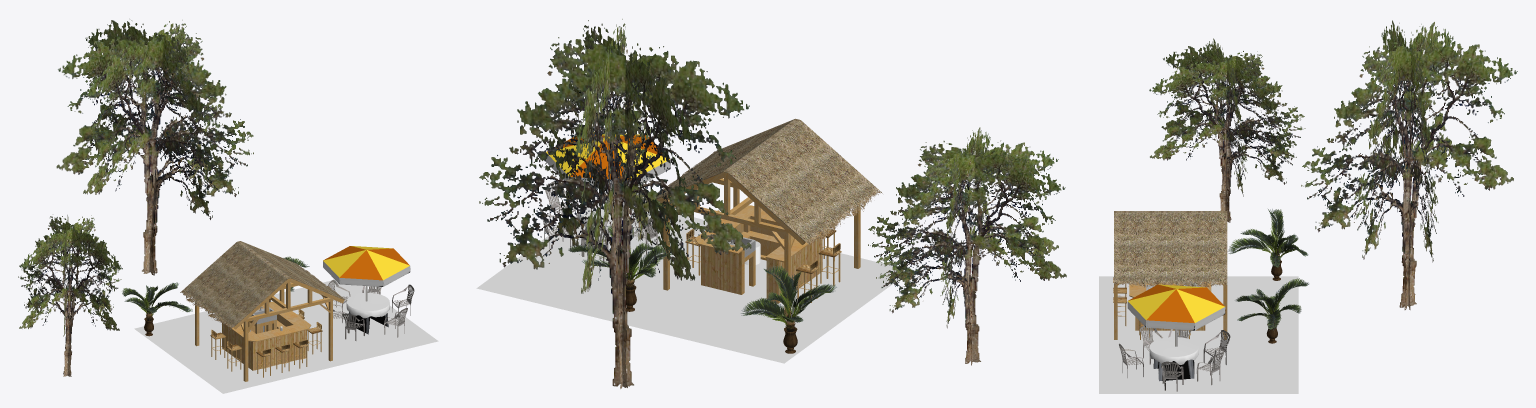
Rendered from TikiHut.fbx.
3 renders of one model, left to right at view 1: azimuth 30°, elevation 25°; view 2: azimuth 150°, elevation 25°; view 3: azimuth 270°, elevation 25°, orthographic. The views are drawn at different scales.
Visible parts, largest first — view 1: FlaPine5_3DX, Ground, Tiki, FlaPine5_3DX.001, Bar, Ubmrella, WhiteTable, Plant.001; view 2: FlaPine5_3DX, Ground, FlaPine5_3DX.001, Tiki, Bar, Plant.001, Ubmrella, Plant, WhiteTable; view 3: FlaPine5_3DX, Ground, FlaPine5_3DX.001, Tiki, Ubmrella, Plant.001, WhiteTable, Plant, Bar, ChairWhite.002, ChairWhite.004, ChairWhite.
Part boxes in pixels (box(x1,y1,x2,y2)): FlaPine5_3DX: box(56, 20, 253, 275); Ground: box(134, 279, 438, 393); Tiki: box(180, 241, 347, 381); FlaPine5_3DX.001: box(18, 215, 122, 376); Bar: box(216, 301, 311, 370); Ubmrella: box(323, 246, 410, 301); WhiteTable: box(346, 292, 389, 334); Plant.001: box(122, 282, 192, 336); FlaPine5_3DX: box(479, 19, 751, 388); Ground: box(476, 209, 904, 363); FlaPine5_3DX.001: box(868, 127, 1066, 365); Tiki: box(645, 118, 882, 319); Bar: box(695, 205, 828, 303); Plant.001: box(741, 265, 836, 353); Ubmrella: box(545, 131, 670, 236); Plant: box(568, 224, 671, 311); WhiteTable: box(578, 197, 637, 245); FlaPine5_3DX: box(1301, 20, 1517, 309); Ground: box(1099, 276, 1298, 393); FlaPine5_3DX.001: box(1149, 38, 1305, 222); Tiki: box(1114, 211, 1227, 339); Ubmrella: box(1127, 284, 1225, 346); Plant.001: box(1228, 209, 1308, 280); WhiteTable: box(1149, 337, 1198, 381); Plant: box(1235, 278, 1308, 343); Bar: box(1129, 281, 1211, 330); ChairWhite.002: box(1161, 361, 1183, 391); ChairWhite.004: box(1203, 330, 1230, 368); ChairWhite: box(1196, 352, 1223, 385).
Bounding box in the file's own units: 1322 × 838 × 1138.
23 materials, 16 textured.
